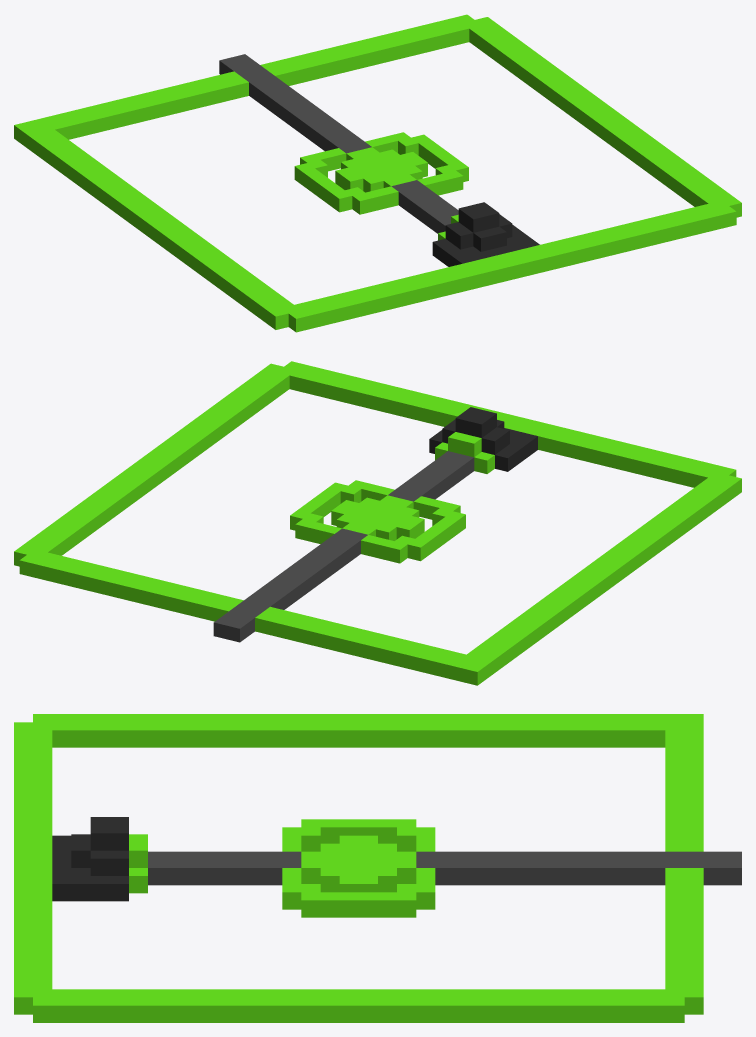
Rendered from wire_end1.obj.
The picture shows the model from 3 angles, top to bottom: view 1: azimuth 30°, elevation 25°; view 2: azimuth 150°, elevation 25°; view 3: azimuth 270°, elevation 25°; orthographic projection. The views are drawn at different scales.
Size of the model in its own units: 3.6 by 0.3 by 3.8.
Materials: 1 (1 with a texture image).
